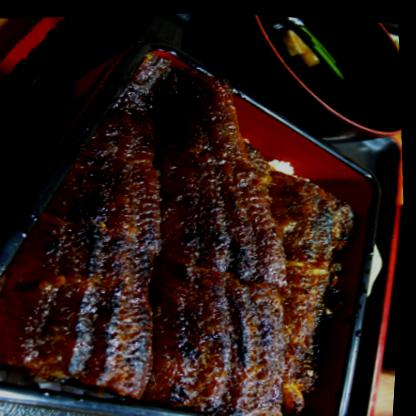eel: (29, 55, 374, 415)
